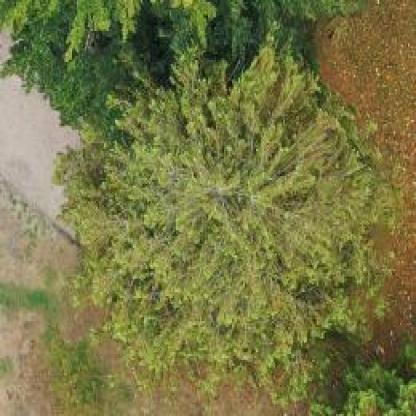Coniferous Tree: (73, 48, 380, 383), (0, 0, 302, 75)
